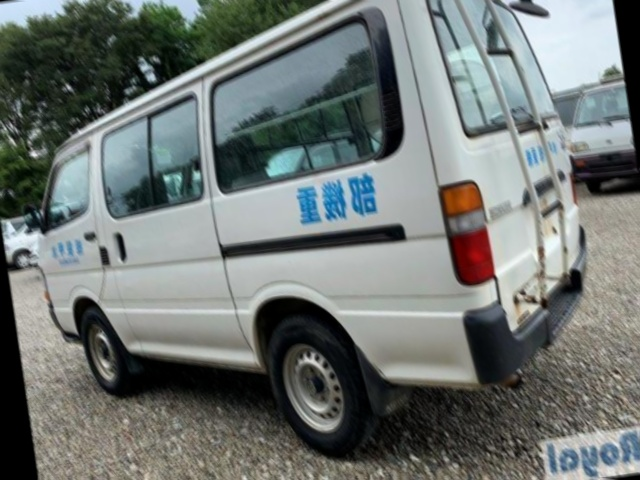van: (2, 0, 606, 477)
